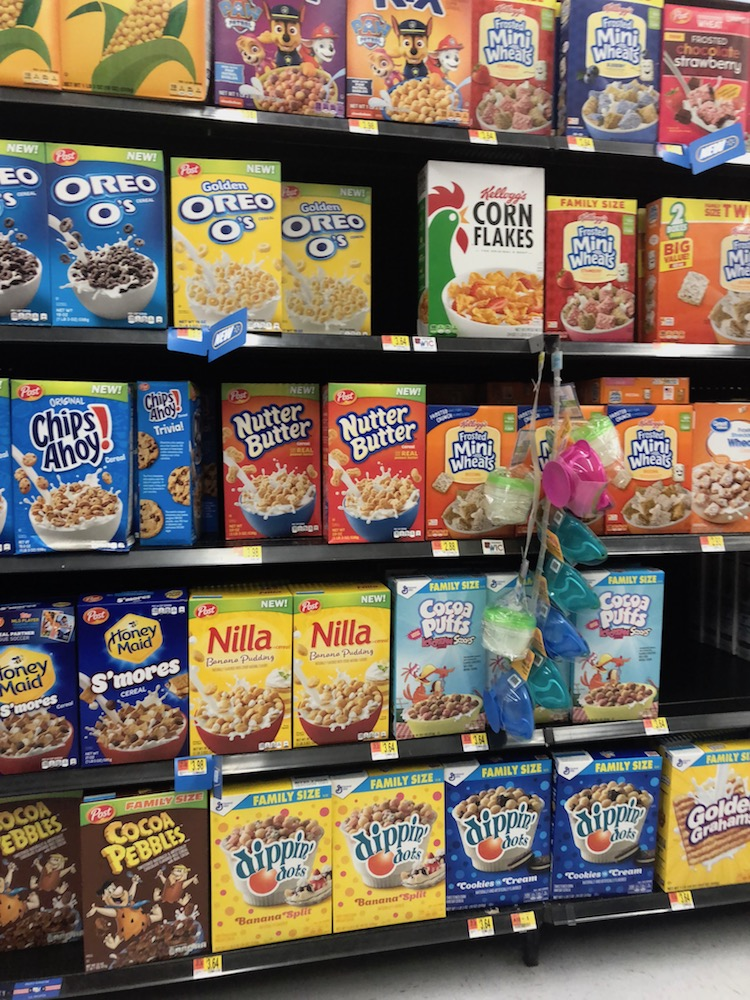Chips Ahoys-565717529: (10, 381, 127, 552)
Cocoa Pebbles-555517893: (81, 805, 210, 957), (1, 795, 78, 949)
Cocoa Puffs Ice Cream-563408546: (395, 583, 485, 729), (571, 577, 662, 717)
Dippin Dots Banana-568929376: (213, 788, 332, 937), (333, 781, 447, 919)
Dippin Dots Cookies & Cream -568929378: (449, 765, 549, 898), (558, 762, 654, 891)
Frosted Mini Original -9295869: (604, 402, 698, 534), (427, 403, 510, 532)
Honey Maid Graham -563424385: (81, 608, 186, 750), (1, 607, 75, 762)
Mini Wheats Straw-567084832: (542, 192, 633, 332)
Nilla -568301014: (187, 594, 292, 745), (290, 594, 393, 744)
Nutter Butter-565717511: (223, 382, 327, 539), (328, 385, 422, 546)
Oreo Golden-568301011: (172, 159, 283, 331), (271, 185, 370, 323)
Oreo-563424384: (43, 148, 164, 330)
